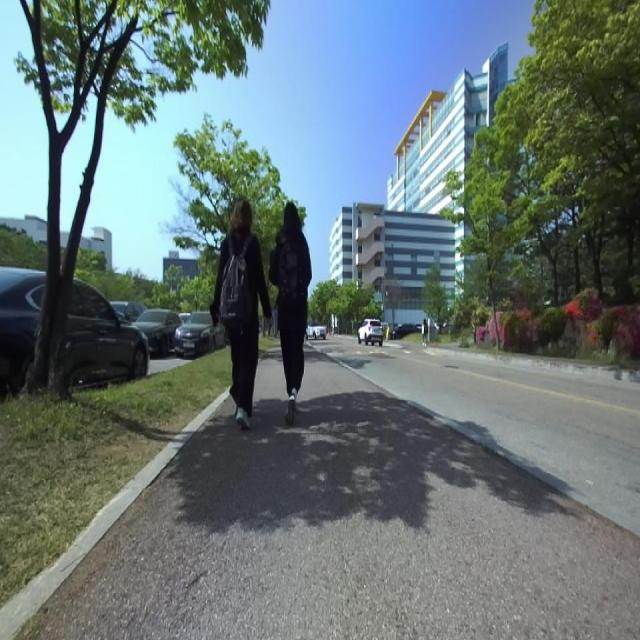sidewalk: (20, 352, 640, 639), (319, 352, 640, 536), (0, 389, 229, 640)
